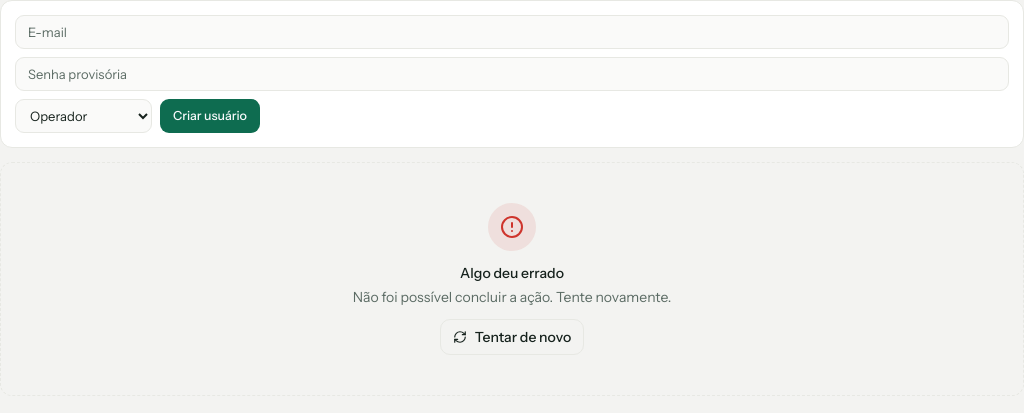
Test case: UserManagementPanel › erro de carregamento inicial (sem nenhum dado) vira ErrorState com retry, nunca a mensagem de lista vazia
The image size is (1024, 413).
Expected: the text "Não foi possível concluir a ação. Tente novamente." is shown, [353,287,671,307]
What coordinates should you click on to do the following:
click the button "Tentar de novo"
I would click on:
 (512, 337)
Its box is [440,319,584,355].
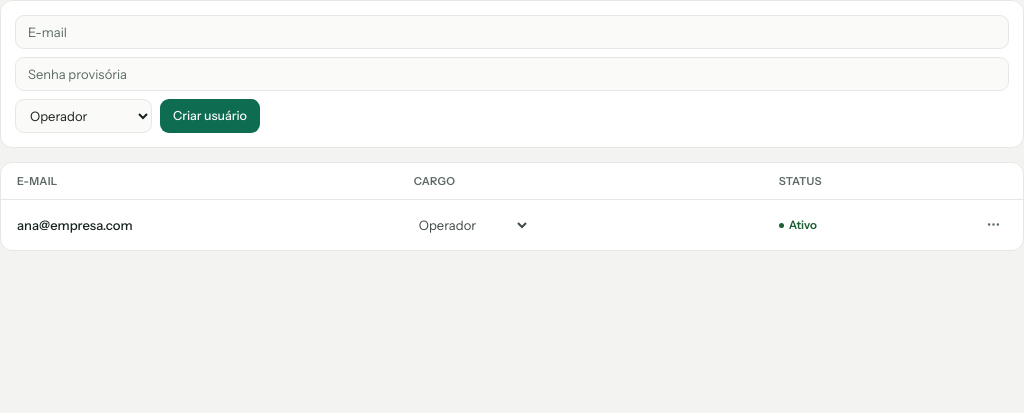
Now the text "ana@empresa.com" is shown, box [1,199,406,250]
